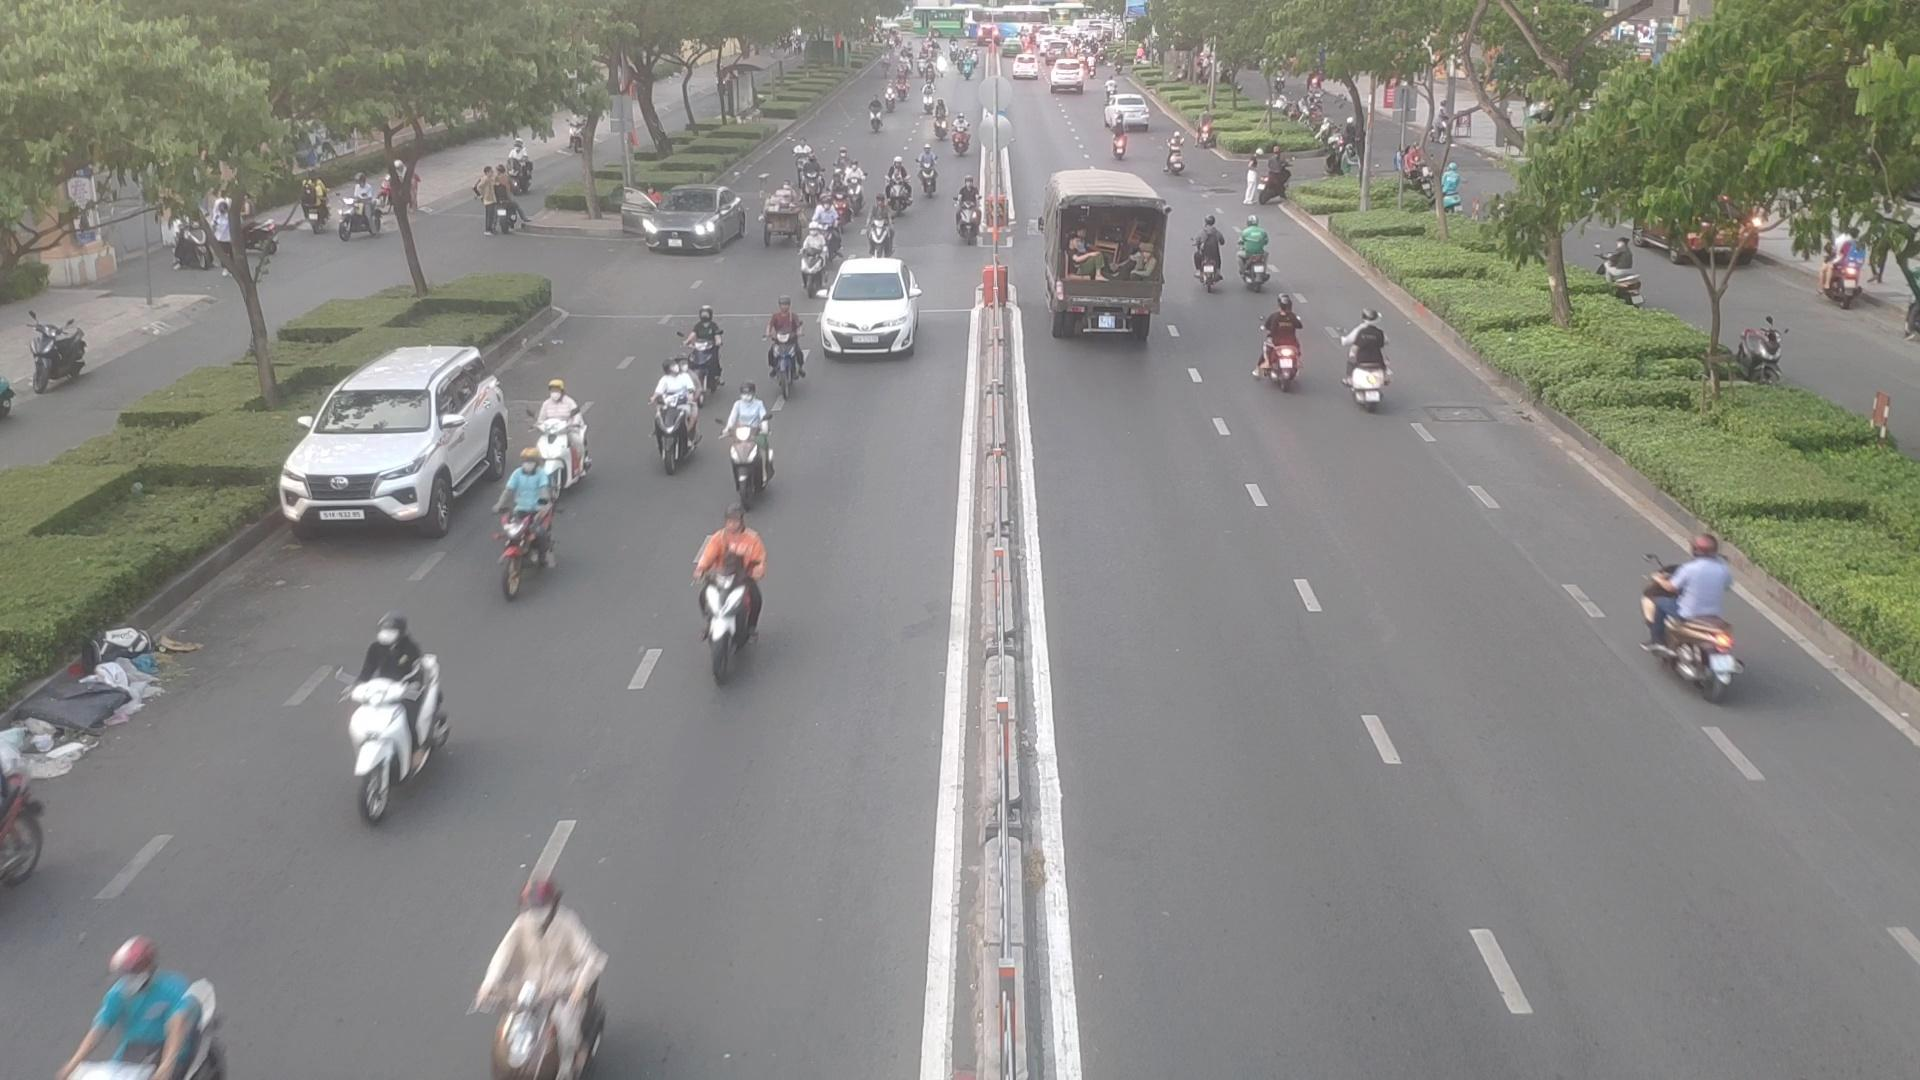car: (287, 343, 518, 533), (1034, 166, 1168, 347), (820, 264, 927, 363), (621, 190, 753, 257)
motorbike: (476, 891, 620, 1077), (330, 622, 462, 818), (54, 938, 232, 1076), (1623, 535, 1750, 696), (686, 520, 766, 684), (473, 458, 560, 601), (721, 392, 781, 500), (533, 378, 597, 471), (1340, 315, 1400, 410), (644, 368, 700, 469), (764, 303, 820, 401), (1251, 303, 1308, 386), (1233, 218, 1286, 295), (676, 306, 725, 381), (952, 187, 988, 249), (800, 233, 839, 290), (814, 200, 847, 247), (878, 171, 910, 216), (1153, 132, 1184, 177), (918, 150, 945, 196), (1101, 123, 1131, 160)
